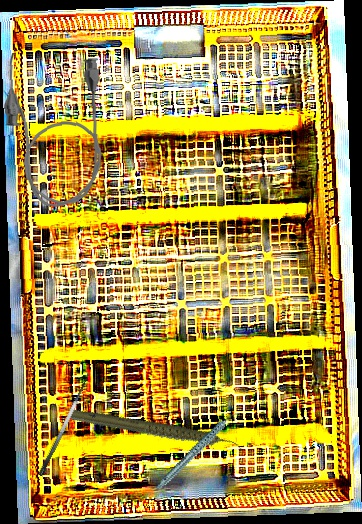Cannula: (0, 46, 109, 211)
Handpiece: (68, 374, 245, 490), (143, 409, 253, 491)
Spatula Surgical: (29, 368, 95, 477)
